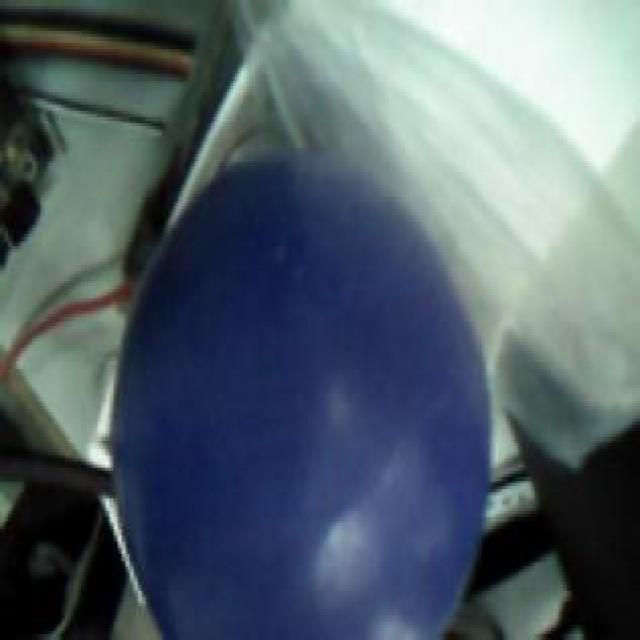BallPurple: (109, 157, 492, 640)
